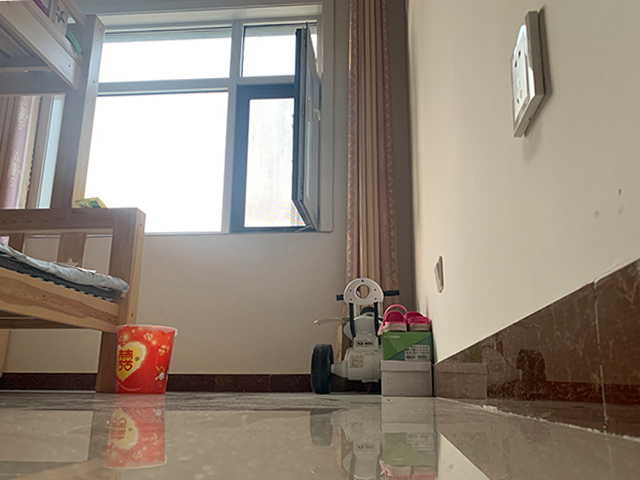bed: (1, 1, 145, 394)
curtain: (345, 1, 402, 306)
trashcan: (113, 323, 177, 396)
